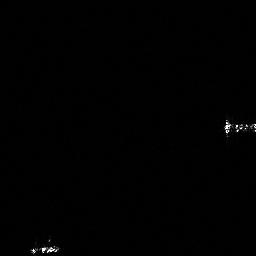ship: (221, 117, 256, 140), (25, 243, 63, 256)
